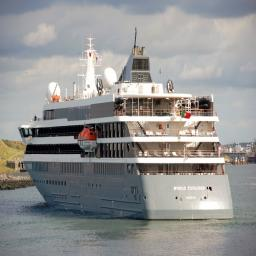cruises: (18, 24, 241, 225)
